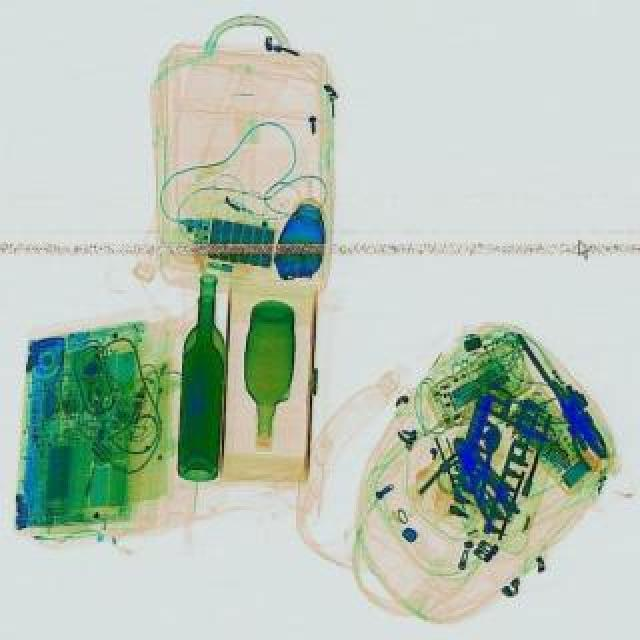wrench: (440, 428, 520, 524), (542, 374, 616, 472)
